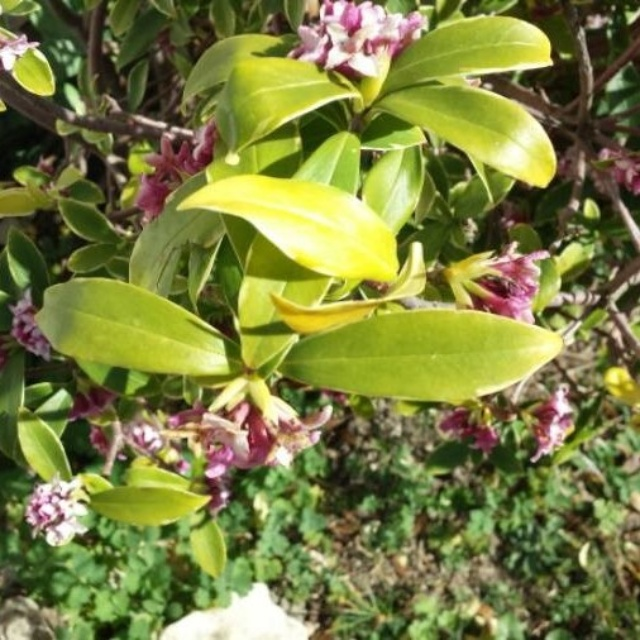obstacle: (46, 25, 532, 501)
